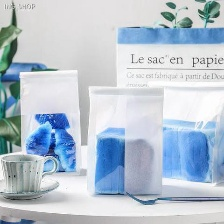glass: (0, 148, 63, 203)
snack: (108, 21, 224, 191), (79, 81, 169, 199), (11, 65, 86, 178)
